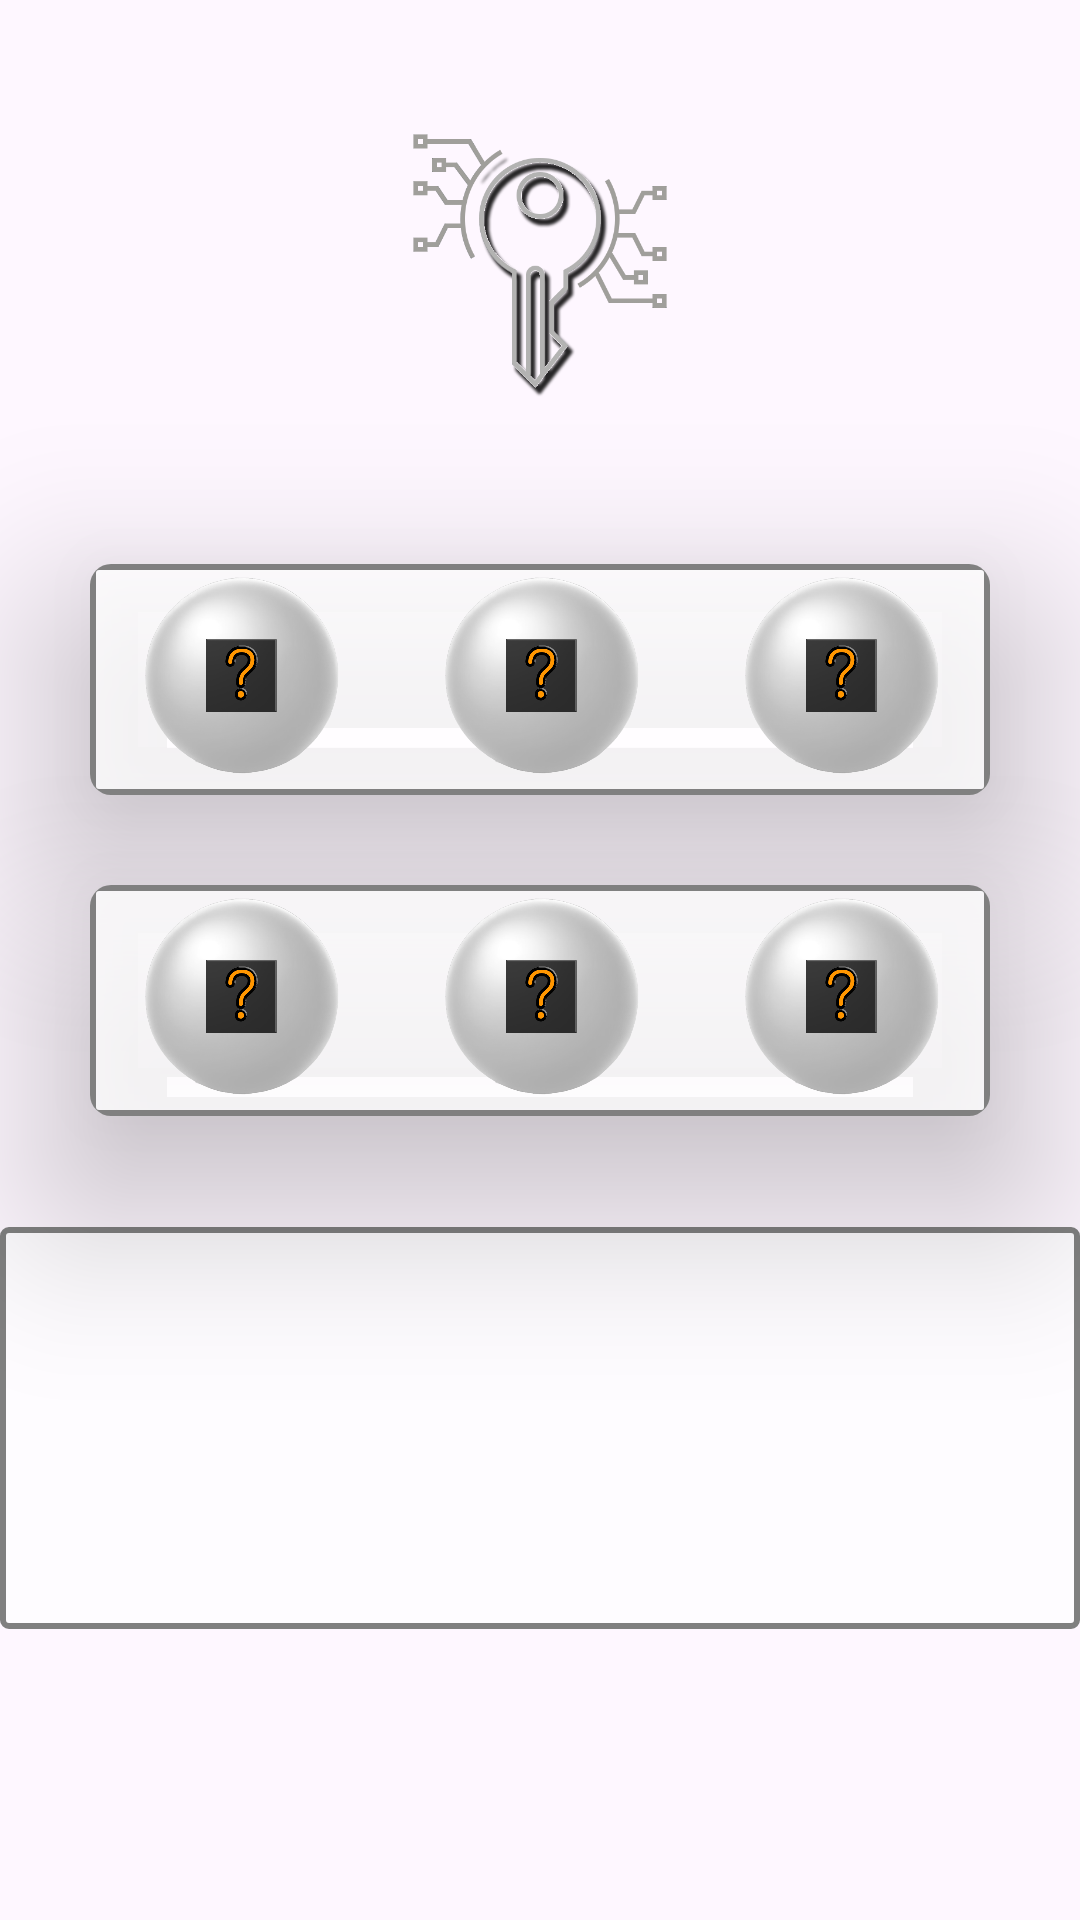

Named icons in this screenshot (1080px×1920px) and their centers, (x,y):
ball: (242,675), (542,675), (842,675), (240,1000), (540,1000), (840,1000)
